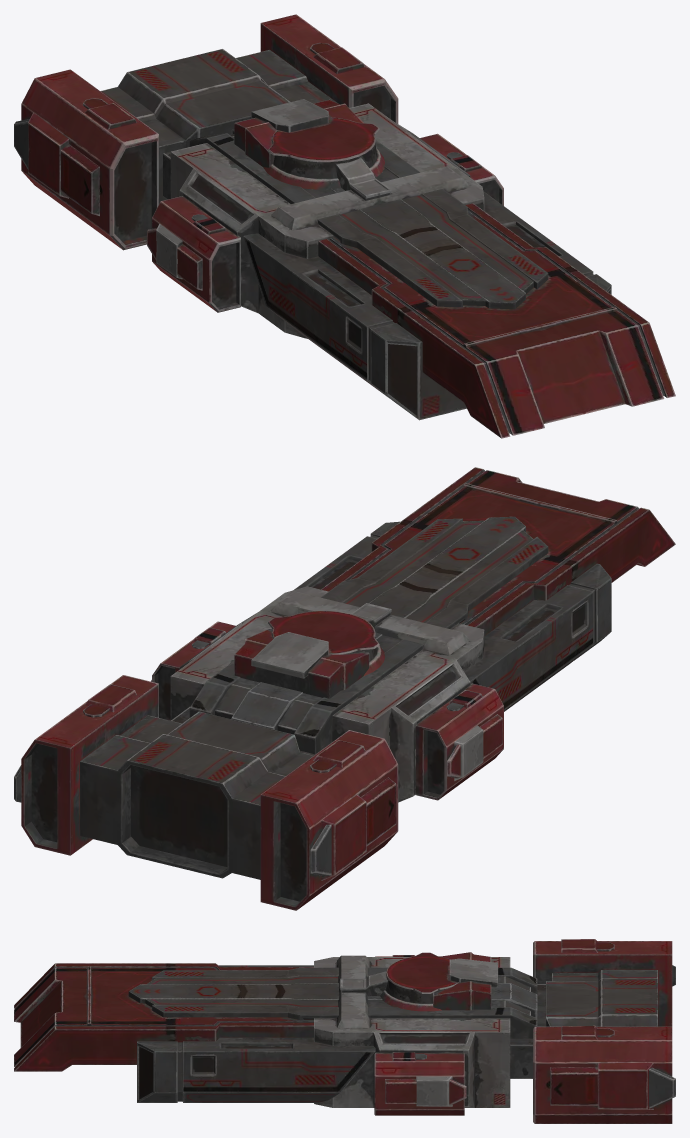
File: ship-imperial.gltf
3 views of the same model, one above another, from view 1: azimuth 30°, elevation 25°; view 2: azimuth 150°, elevation 25°; view 3: azimuth 270°, elevation 25° (orthographic). The views are drawn at different scales.
Visible parts, largest first — view 1: imperial; view 2: imperial; view 3: imperial.
Boxes of the visible parts, x1,y1,x2,y2 form: imperial: [14, 14, 675, 438]; imperial: [14, 467, 675, 910]; imperial: [14, 939, 675, 1123].
Bounding box in the file's own units: 7.73 × 3.3 × 18.55.
Materials: 1 (1 with a texture image).
